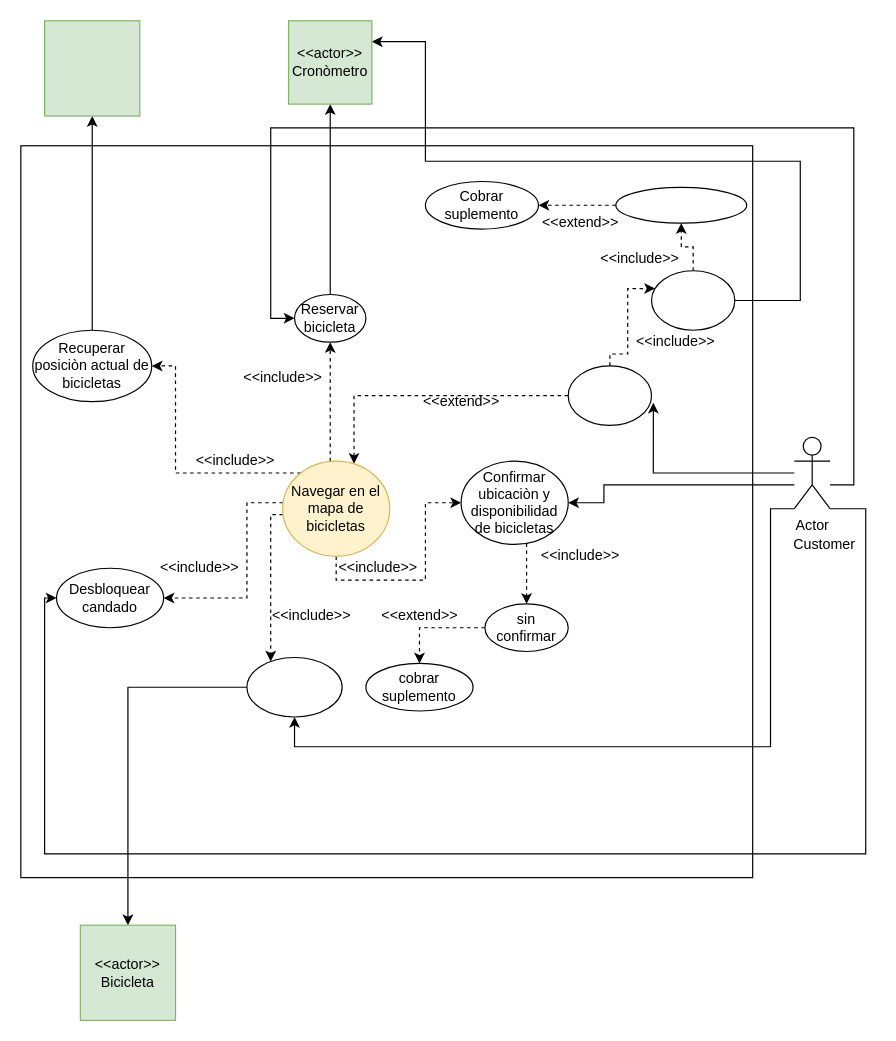
This 896x1041 diagram has some shape labels left out. Here are the shapes that lost their labels. From the top down, the centre of each, then its label:
point 91,68: <<actor>> GPS Satellite System
point 681,204: marcar tiempo excedido
point 692,300: Uso de bicicleta 30 mins
point 609,395: Pagar suscripciòn mensual
point 294,686: Alquilar bicicleta
